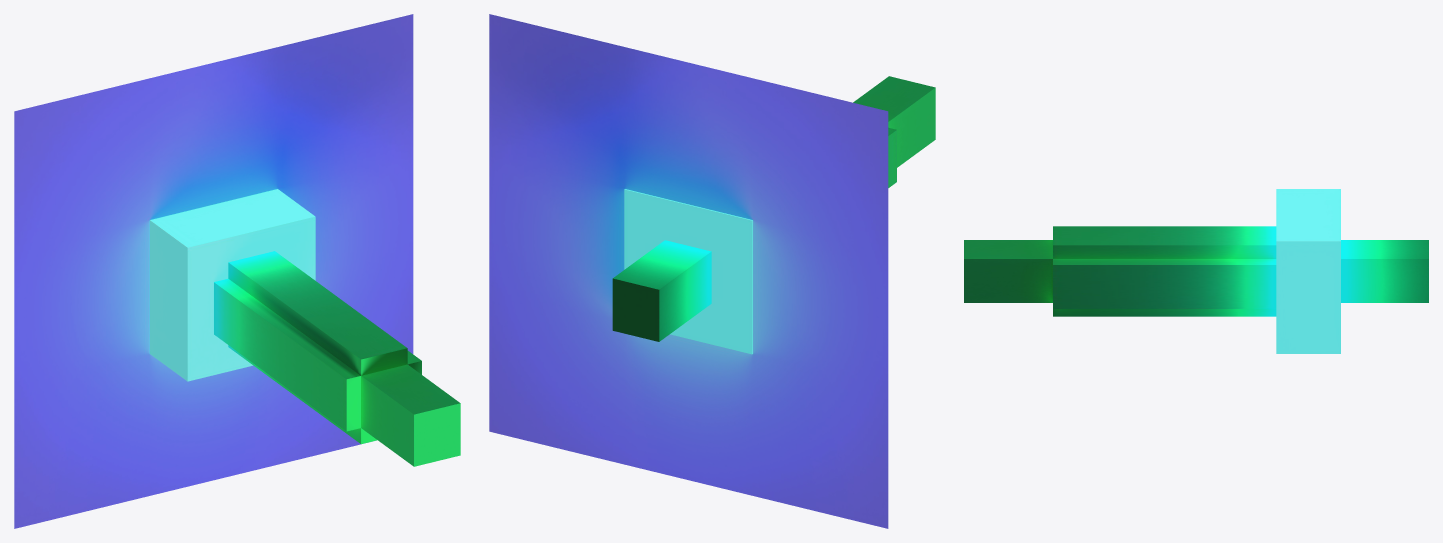
Rendered from demo.glb.
3 views of the same model, side by side, from view 1: azimuth 30°, elevation 25°; view 2: azimuth 150°, elevation 25°; view 3: azimuth 270°, elevation 25° (orthographic). The views are drawn at different scales.
Visible parts, largest first — view 1: Plane_Baked, Cube.001_Baked, Cube_Baked; view 2: Plane_Baked, Cube.001_Baked, Cube_Baked; view 3: Cube.001_Baked, Cube_Baked.
Part boxes in pixels (left/top/right/bottom): Plane_Baked: left=14, top=14, right=413, bottom=528; Cube.001_Baked: left=214, top=251, right=460, bottom=466; Cube_Baked: left=150, top=189, right=315, bottom=381; Plane_Baked: left=489, top=14, right=888, bottom=528; Cube.001_Baked: left=612, top=76, right=935, bottom=341; Cube_Baked: left=624, top=189, right=752, bottom=354; Cube.001_Baked: left=964, top=226, right=1428, bottom=316; Cube_Baked: left=1276, top=189, right=1340, bottom=353.
Size of the model in its own units: 6.24 by 6.24 by 7.49.
1 material, 1 textured.
